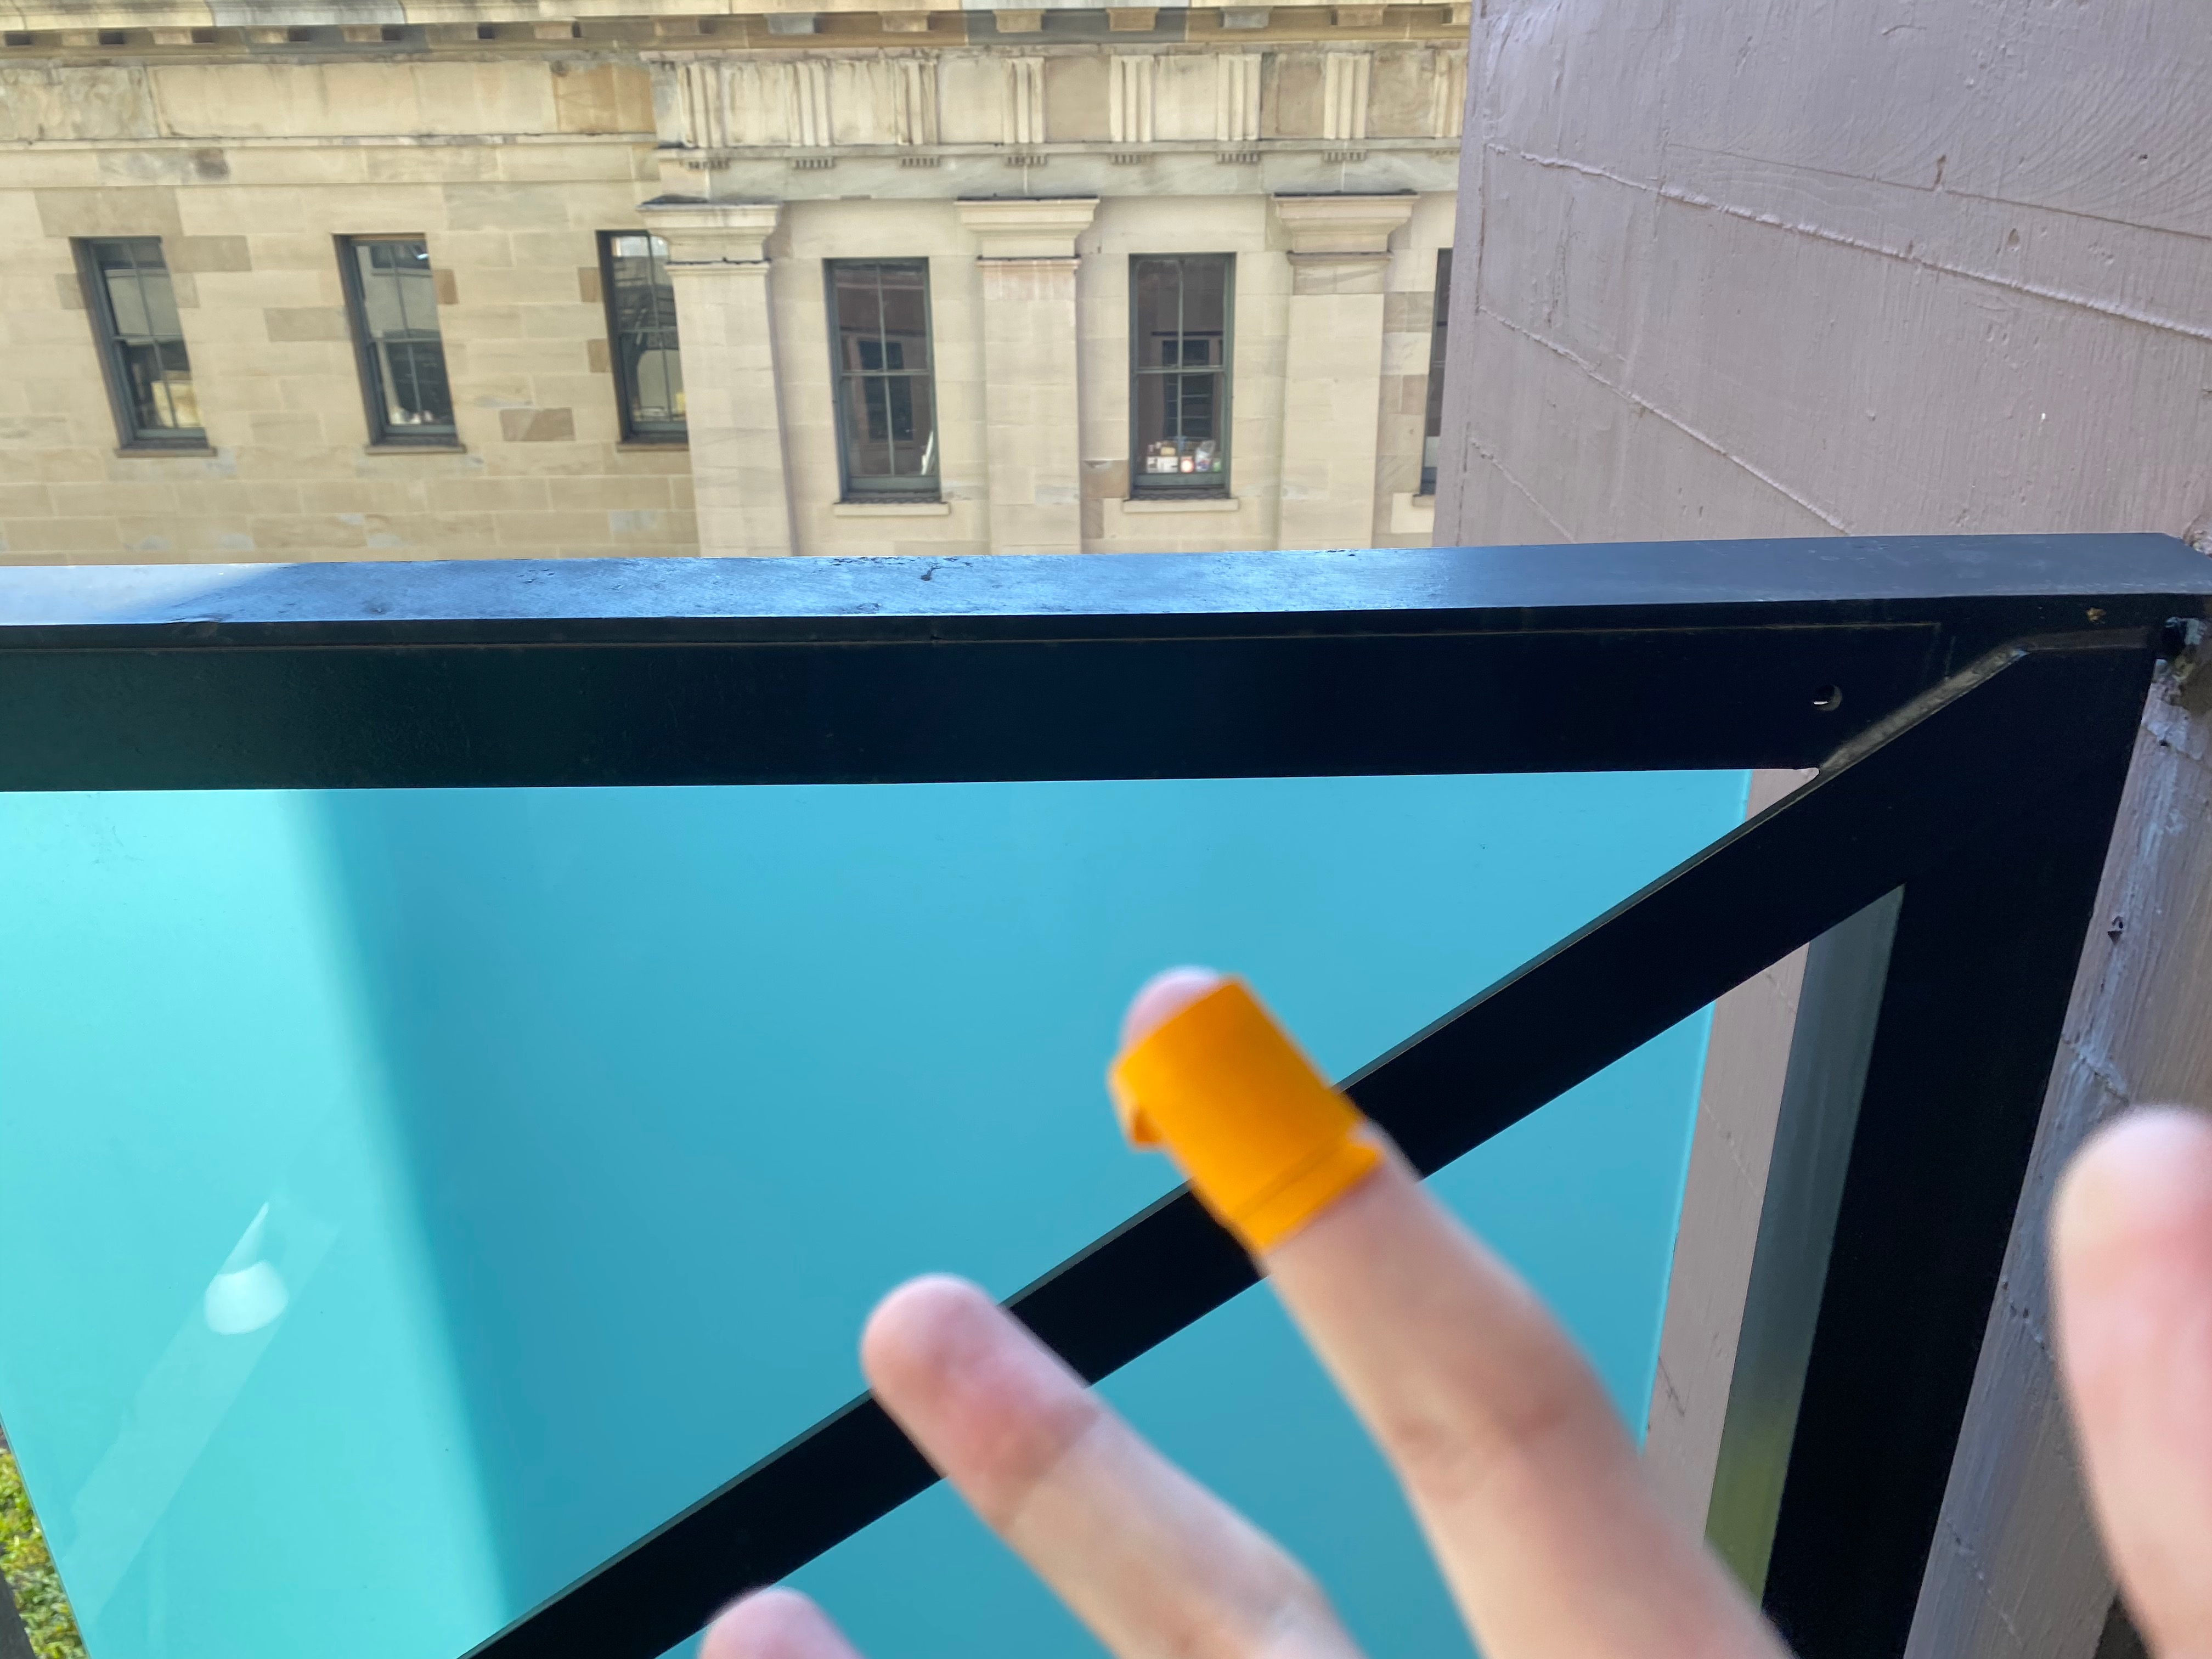fingertip: (1049, 957, 1460, 1279)
